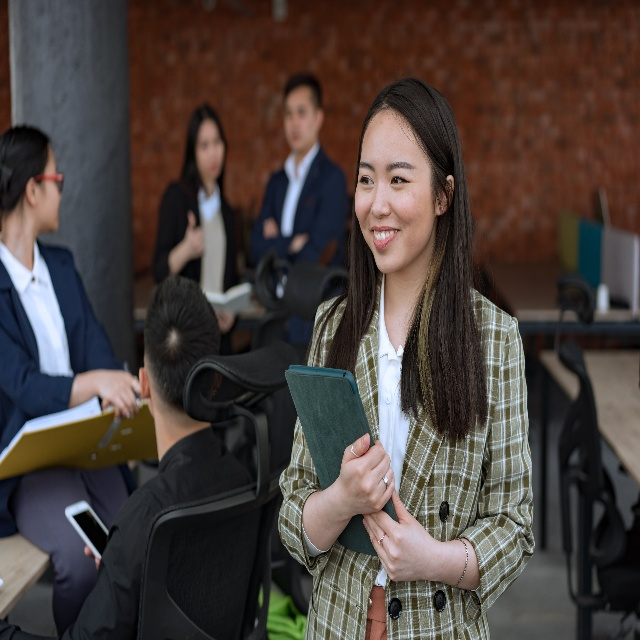Gafas: (34, 172, 63, 190)
Sin_guantes: (363, 487, 432, 583), (337, 433, 395, 515), (95, 369, 142, 417), (186, 210, 206, 261), (216, 309, 234, 332)
